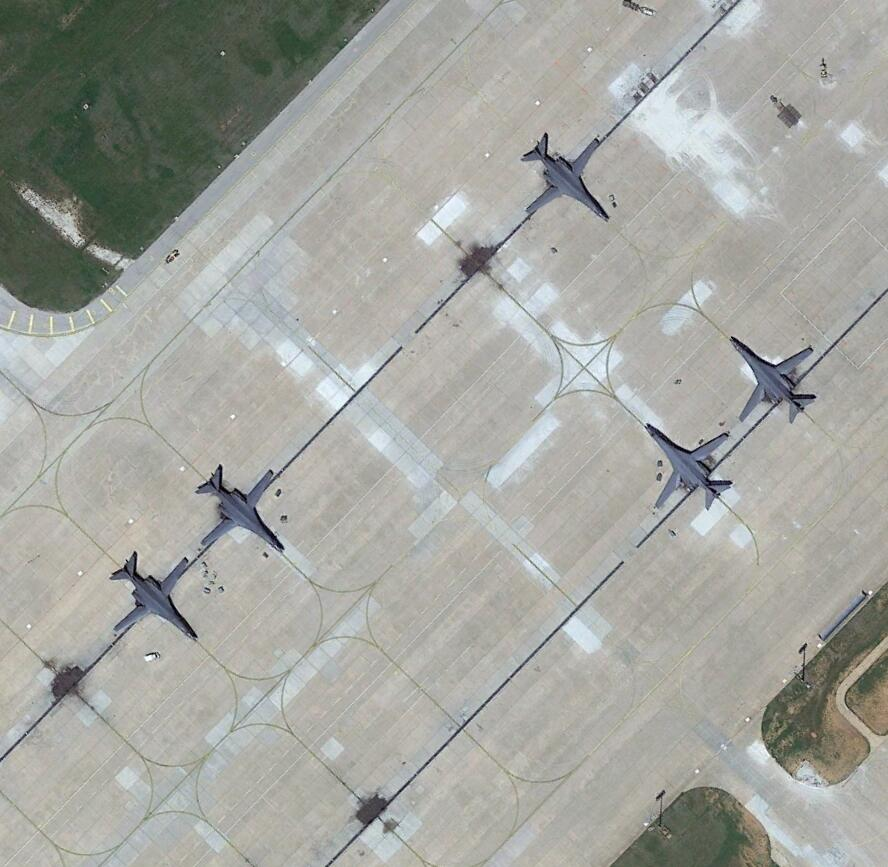A10: (640, 419, 738, 515), (730, 332, 822, 427), (521, 131, 613, 226), (195, 462, 290, 554), (110, 550, 201, 645)
